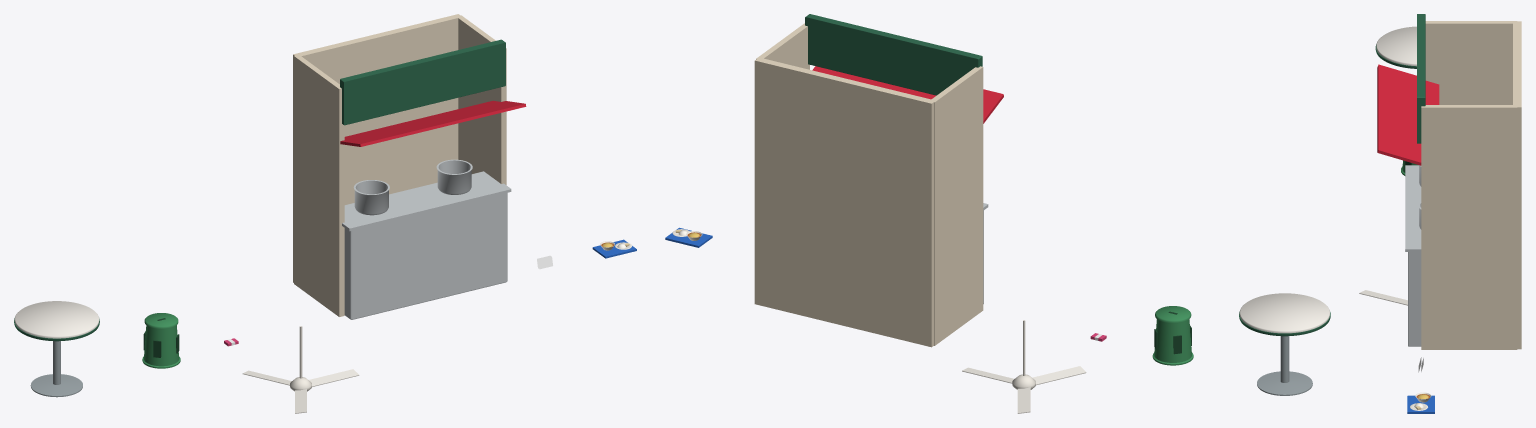
File: chope-assets.glb
The picture shows the model from 3 angles, left to right: view 1: azimuth 30°, elevation 25°; view 2: azimuth 150°, elevation 25°; view 3: azimuth 270°, elevation 25°; orthographic projection. The views are drawn at different scales.
Visible parts, largest first — view 1: StallCounter, StallBack, StallSideL, StallSign, StallSideR, StallCounterTop, TableTop.001, StallAwning, StallSignBox, StoolBody, StallPot.001, StallPot (+1 smaller); view 2: StallBack, StallSideL, StallSignBox, TableTop.001, StoolBody, StallSideR, StallAwning, TableFoot.001; view 3: StallSideR, StallSideL, StallAwning, StallBack, StallCounterTop, StallCounter, TableTop.001, StallSignBox, TrayBase, FanBlade.002.
Boxes of the visible parts, x1,y1,x2,y2 form: StallCounter: (344, 193, 507, 319); StallBack: (293, 14, 461, 282); StallSideL: (294, 56, 344, 316); StallSign: (347, 46, 503, 122); StallSideR: (457, 15, 506, 184); StallCounterTop: (342, 171, 511, 231); TableTop.001: (14, 301, 99, 338); StallAwning: (340, 100, 526, 146); StallSignBox: (340, 39, 505, 125); StoolBody: (142, 313, 180, 368); StallPot.001: (436, 159, 472, 194); StallPot: (353, 180, 389, 215); StallBack: (754, 57, 934, 347); StallSideL: (931, 66, 983, 345); StallSignBox: (805, 14, 982, 95); TableTop.001: (1239, 293, 1329, 333); StoolBody: (1152, 306, 1193, 365); StallSideR: (756, 23, 809, 69); StallAwning: (812, 66, 1003, 123); TableFoot.001: (1257, 371, 1312, 395); StallSideR: (1421, 105, 1517, 349); StallSideL: (1425, 21, 1517, 104); StallAwning: (1377, 64, 1439, 165); StallBack: (1513, 21, 1521, 349); StallCounterTop: (1405, 165, 1421, 251); StallCounter: (1408, 252, 1421, 346); TableTop.001: (1376, 26, 1416, 66); StallSignBox: (1417, 14, 1425, 143); TrayBase: (1407, 395, 1434, 413); FanBlade.002: (1359, 290, 1407, 305).
Size of the model in its own units: 7.01 by 3.29 by 1.52.
